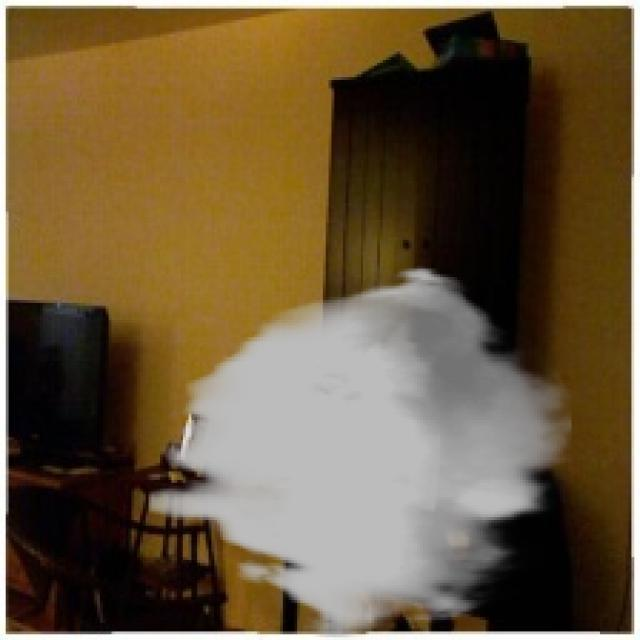Smoke: (148, 266, 574, 638)
